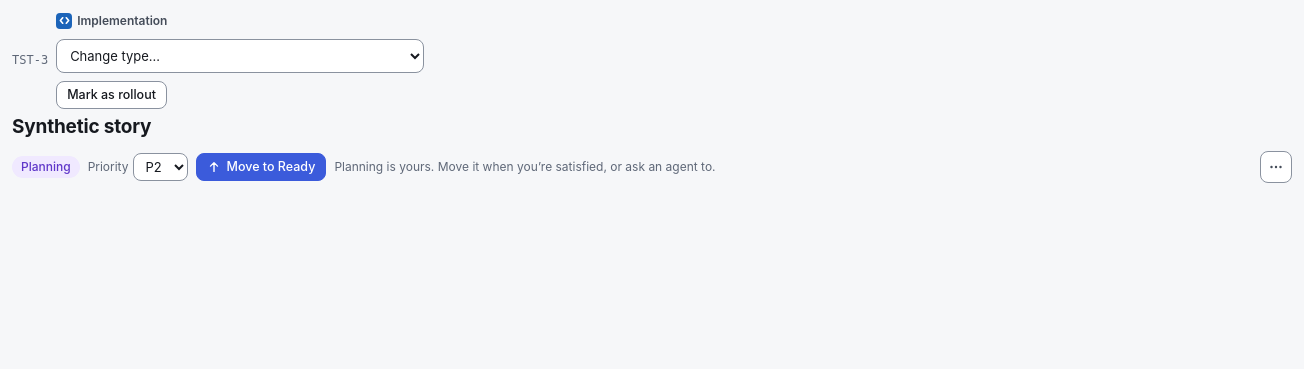
Test: a refused Move to Ready (decision 65) › a ticket with its declaration but no outcome offers no "none" button
Click the button "Move to Ready" at (261, 167), box [196, 153, 326, 181]
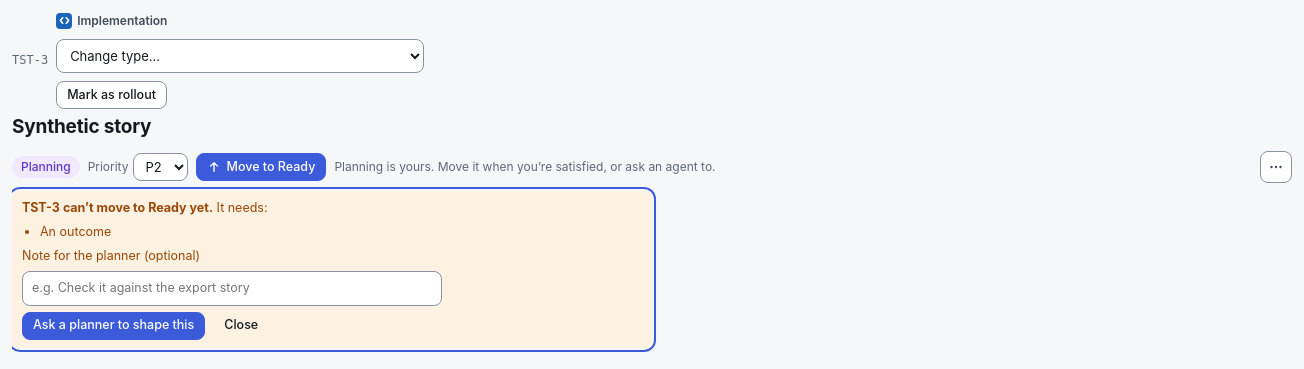
Expected: the list item "An outcome" is shown, [40, 224, 111, 239]
